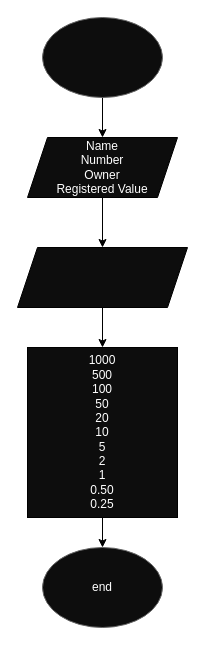
Image size: 205x645. Some labels were removed from this diagram. The box of each missing label's shape, as (x1, y1, x2, y2) in pixels:
OutputName OutputNumber OutputOwner OutputRegistered Value: (16, 246, 188, 308)
start: (42, 16, 162, 98)
